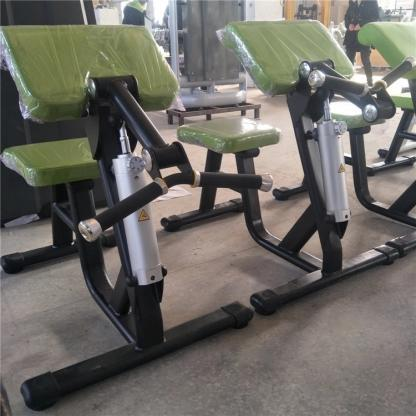arm curl machine: (1, 25, 274, 408)
